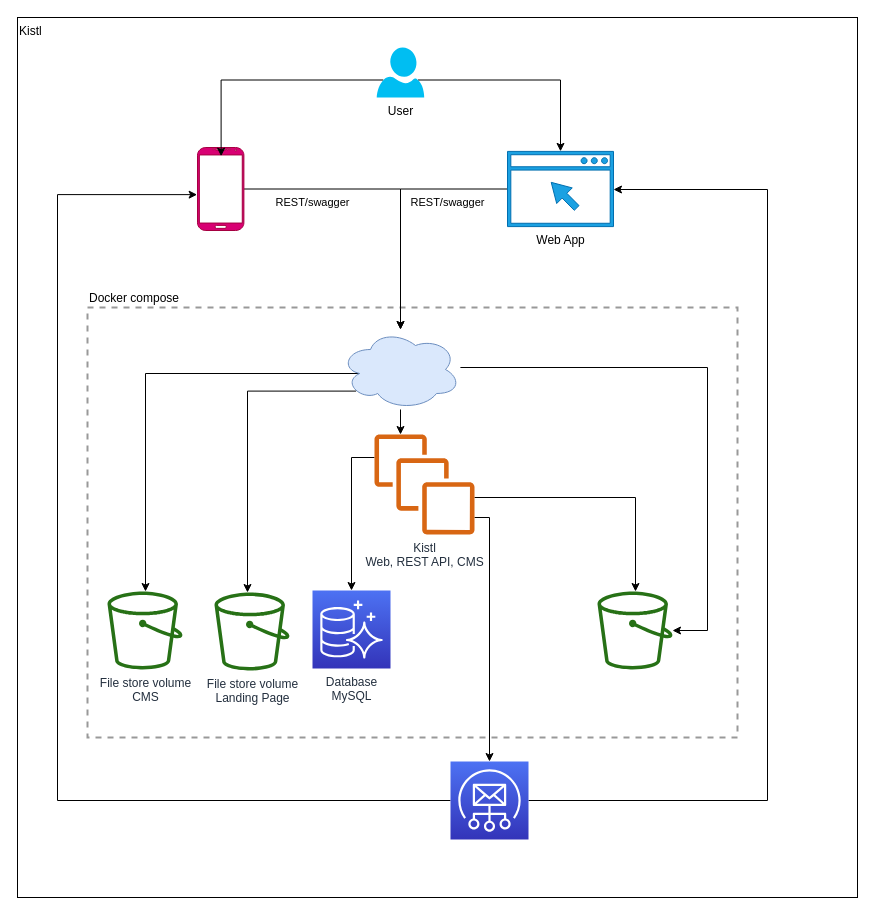
Some shapes in this 875 by 915 pixel diagram are drawn without their labels. Here are the shapes that lost their labels. From the top down, the centre of each, then its label:
At (220,188): "Mobile App iOS, Android".
At (400,369): "Nginx".
At (634,630): "File store volume Media".
At (489,800): "Notifications EMail, FCM".
